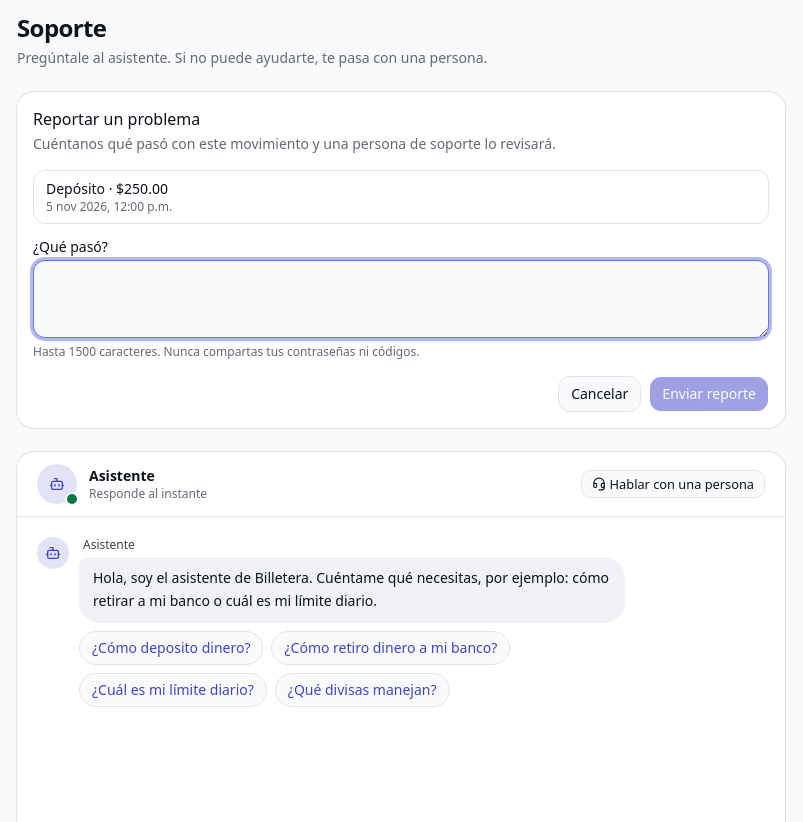
Test: reporting a problem with a movement › keeps what was written when it could not be sent
Type "Pagué y no llegó" into the text box labelled "¿Qué pasó?" at (401, 299), box [33,260,769,338]
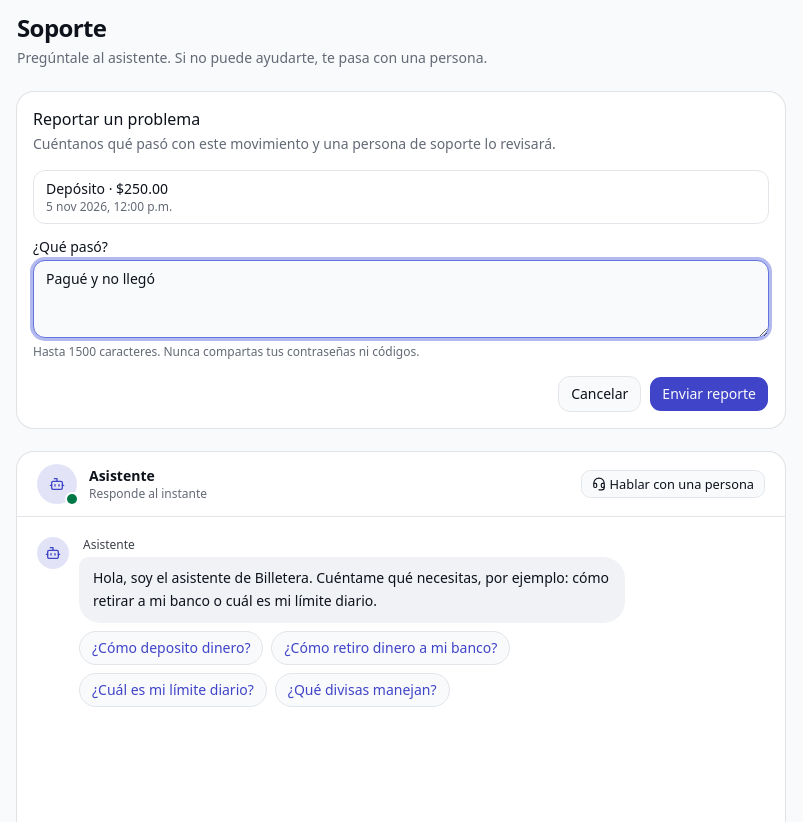
Click the button "Enviar reporte" at (709, 394), box [649,376,769,412]
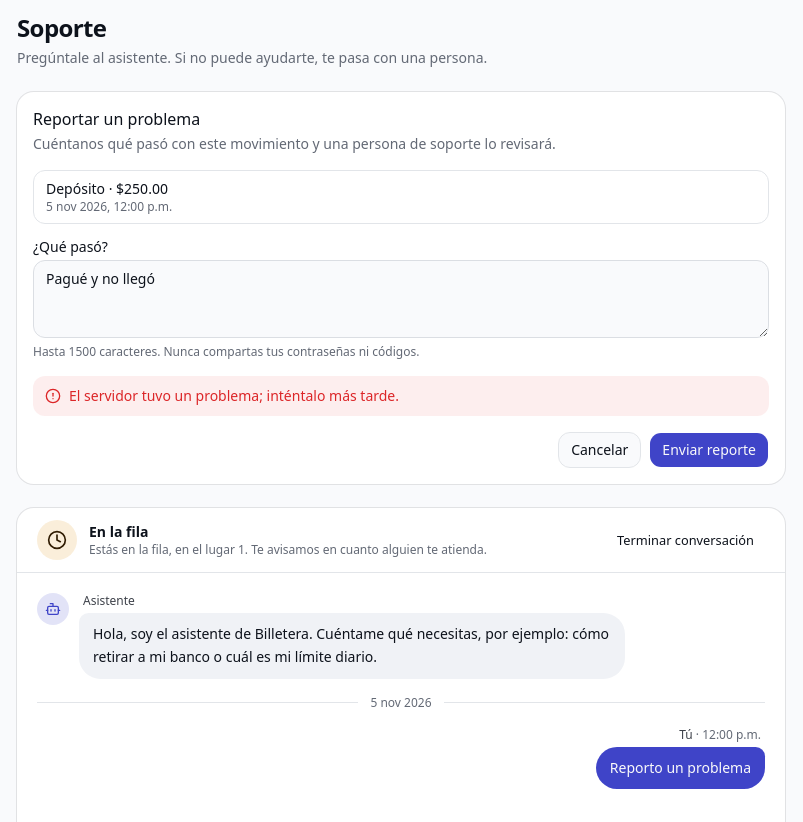
expect the message "El servidor tuvo un problema; inténtalo más tarde." is shown: met, box [33,376,769,416]
